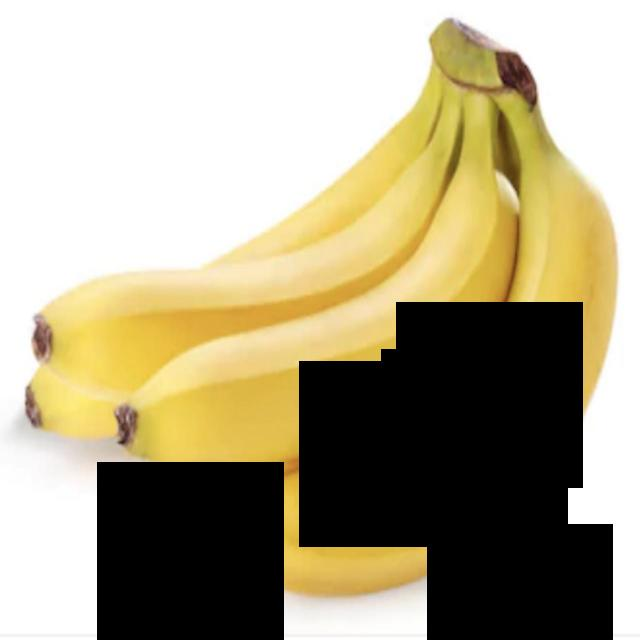banana: (155, 17, 639, 627), (98, 66, 512, 551), (16, 32, 458, 456)
